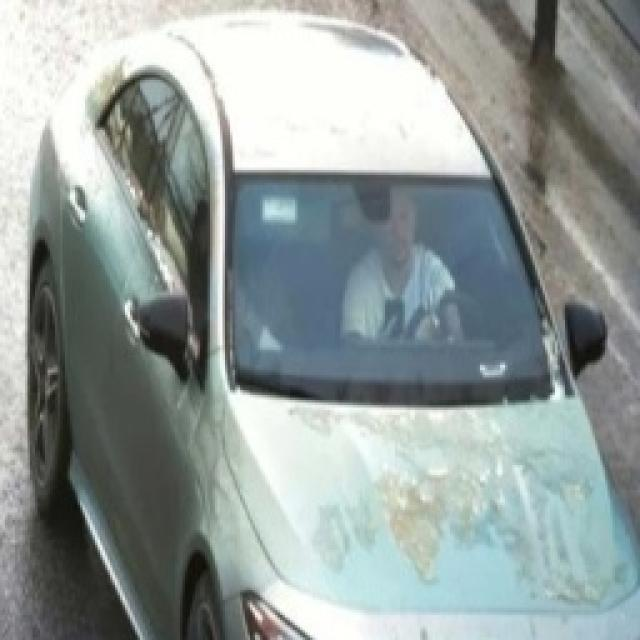windshield: (203, 154, 572, 410)
